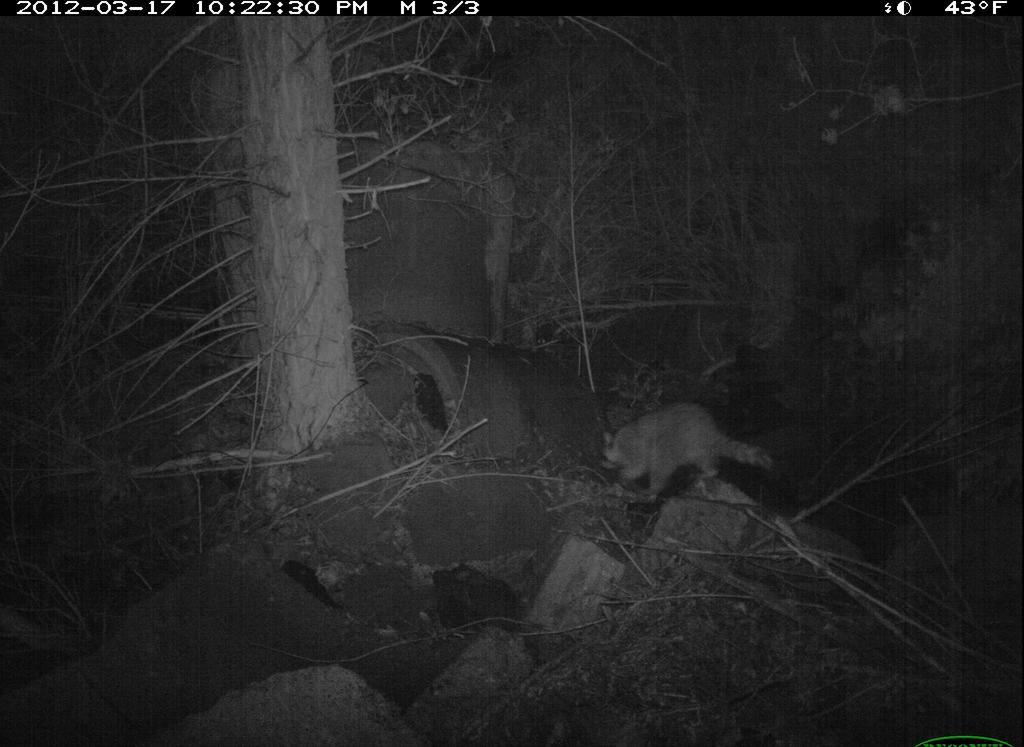raccoon: (593, 396, 795, 497)
